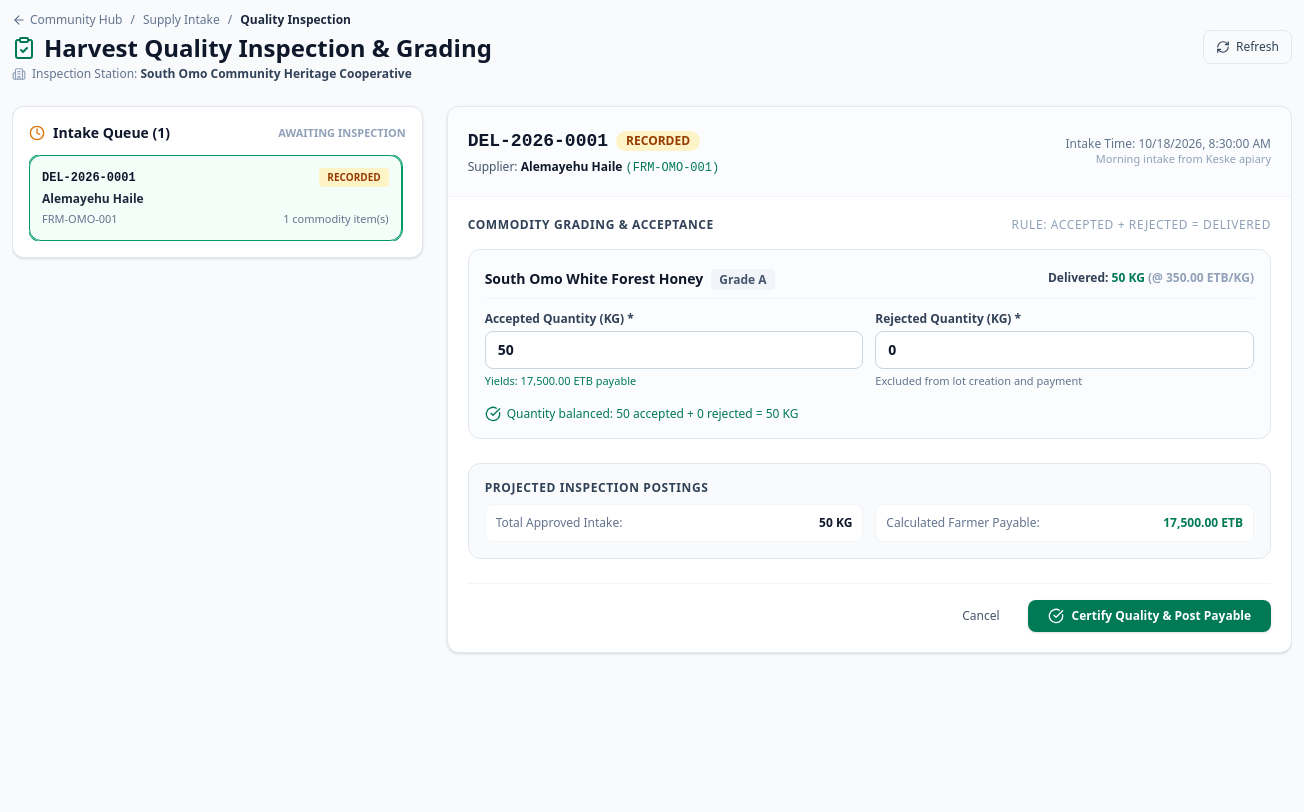
Test: Quality Inspection & Grading Screen (F-805) › submits inspection successfully and displays generated payable & lots confirmation
Note: Set 45 accepted, 5 rejected with reason
Replace the text in the number field with test id "accepted-qty-input-0" with "45": (674, 350) [485,331,863,369]
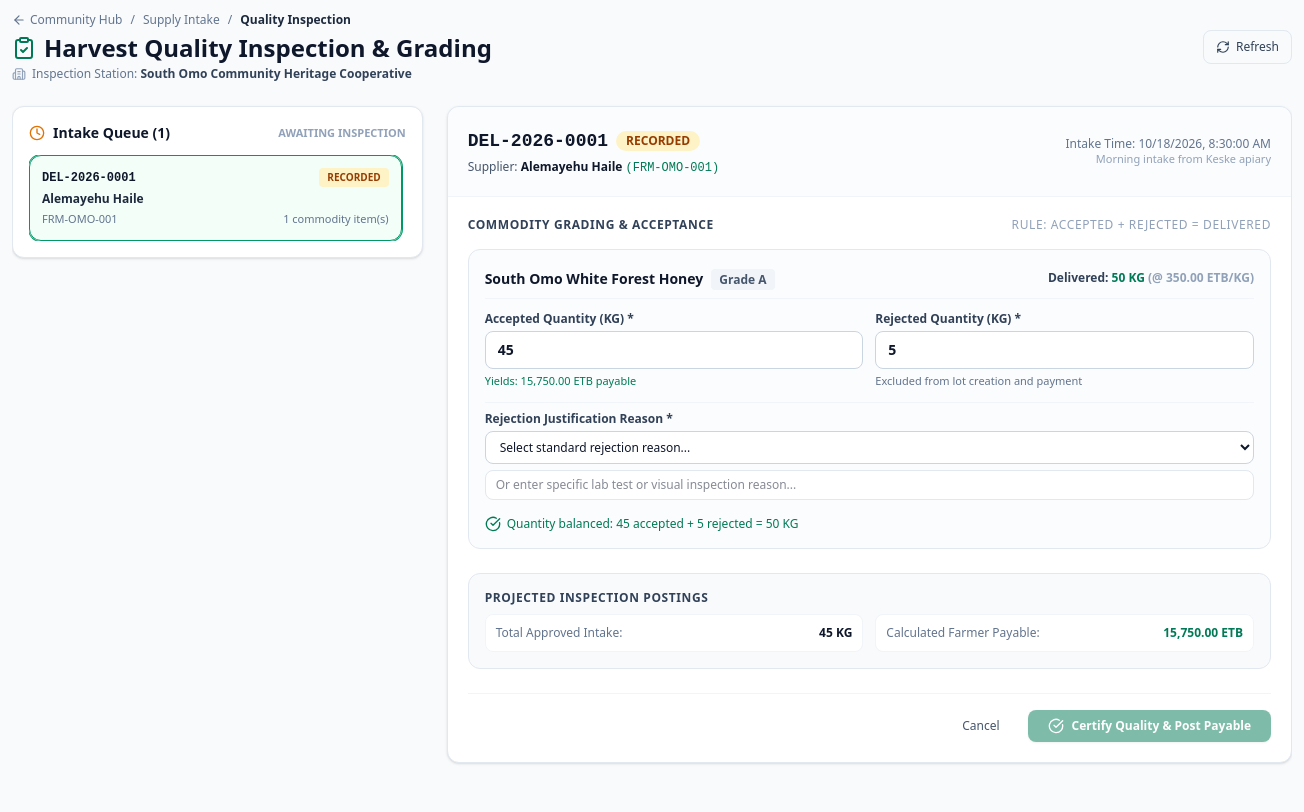
Select "Impurities and foreign particulates present" in the dropdown with test id "rejection-reason-select-0": (869, 447) [485,430,1254,464]
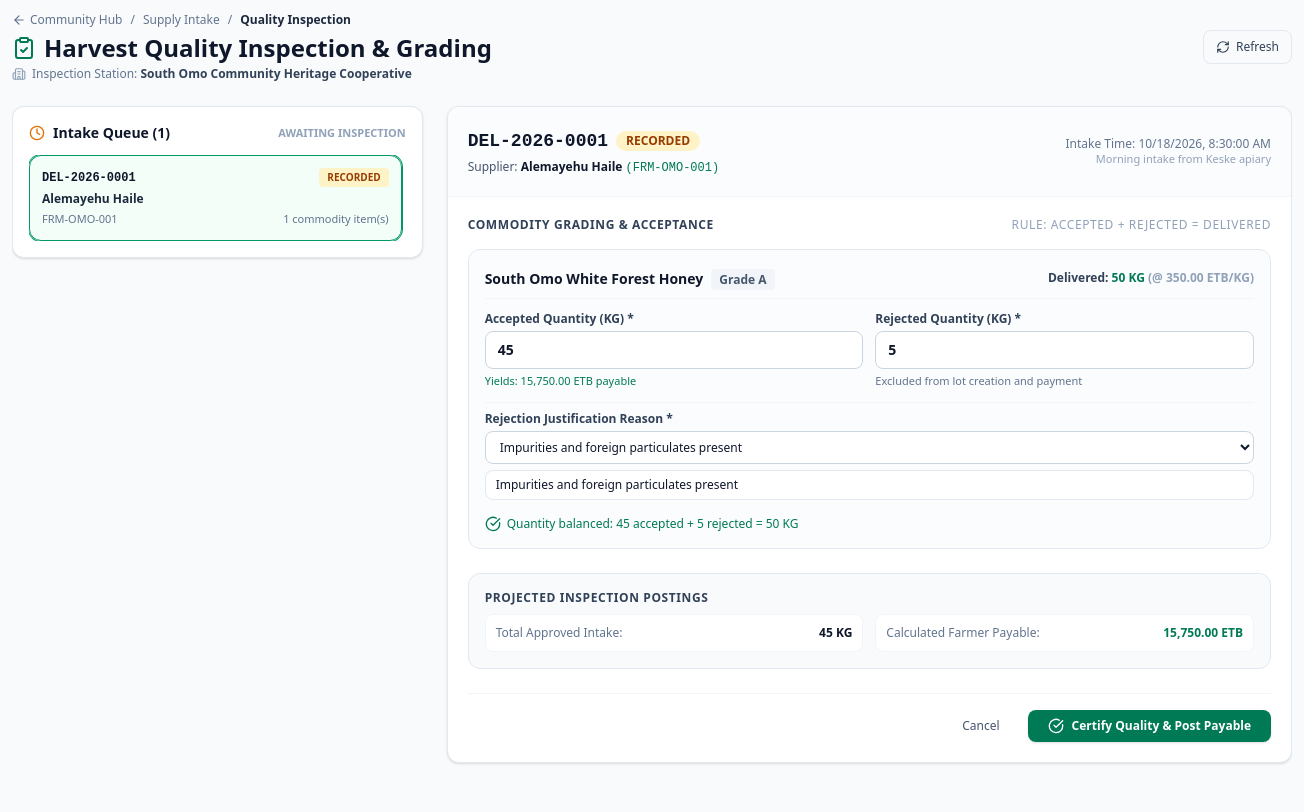
Result: the button with test id "submit-inspection-button" is enabled
Click the button with test id "submit-inspection-button": (1149, 726) [1028,710,1271,742]
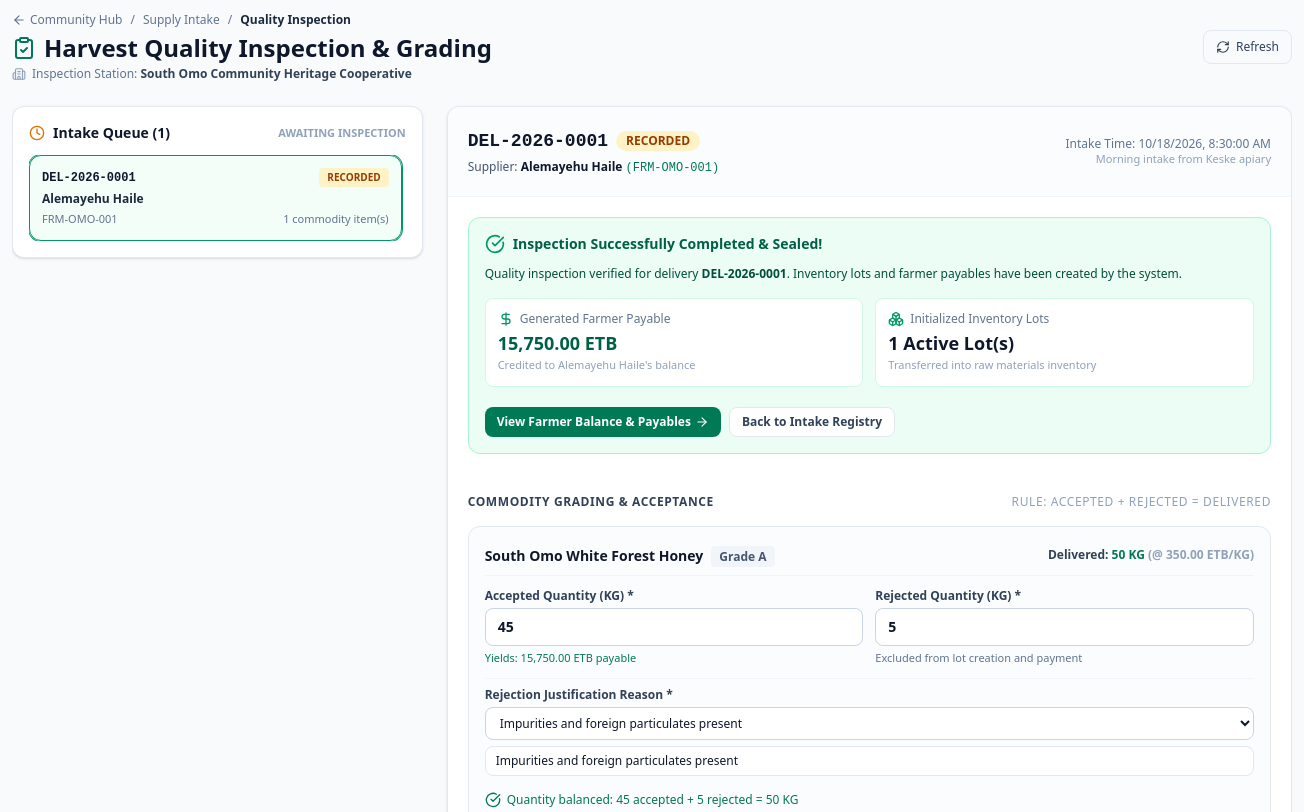
Result: the element with test id "inspection-success-banner" is shown at [468,217,1271,454]
Result: the text "Inspection Successfully Completed & Sealed!" is shown at [513,234,822,254]
Result: the text with test id "generated-payable-amount" reads "15,750.00 ETB" at [498,331,617,355]
